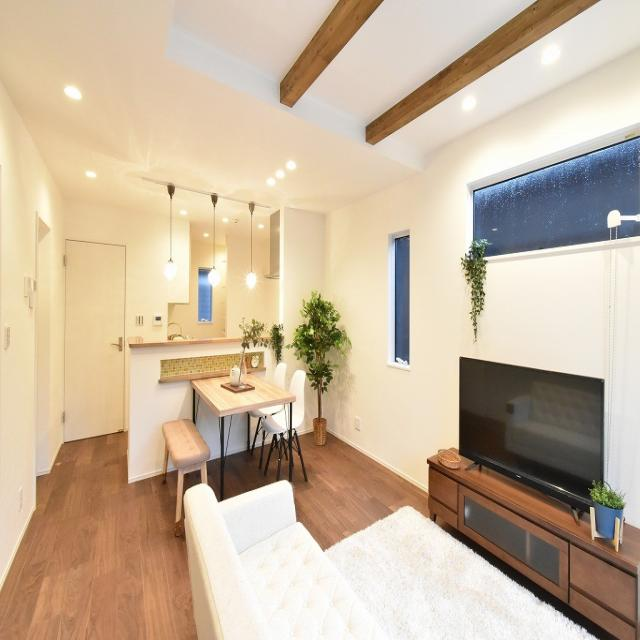natural chair: (268, 370, 314, 488)
natural desk: (190, 372, 296, 488)
natural shelf: (430, 446, 640, 640)
natural sofa: (168, 482, 386, 640)
